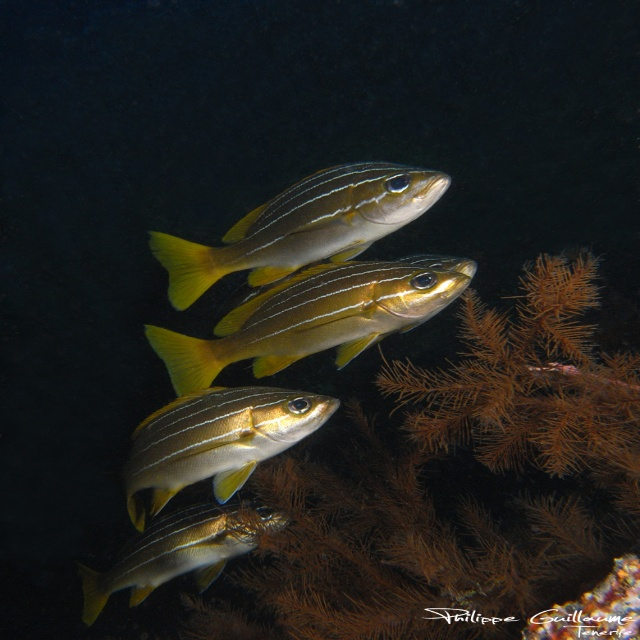Fish: (149, 245, 490, 391), (146, 153, 462, 309), (78, 501, 299, 632)
